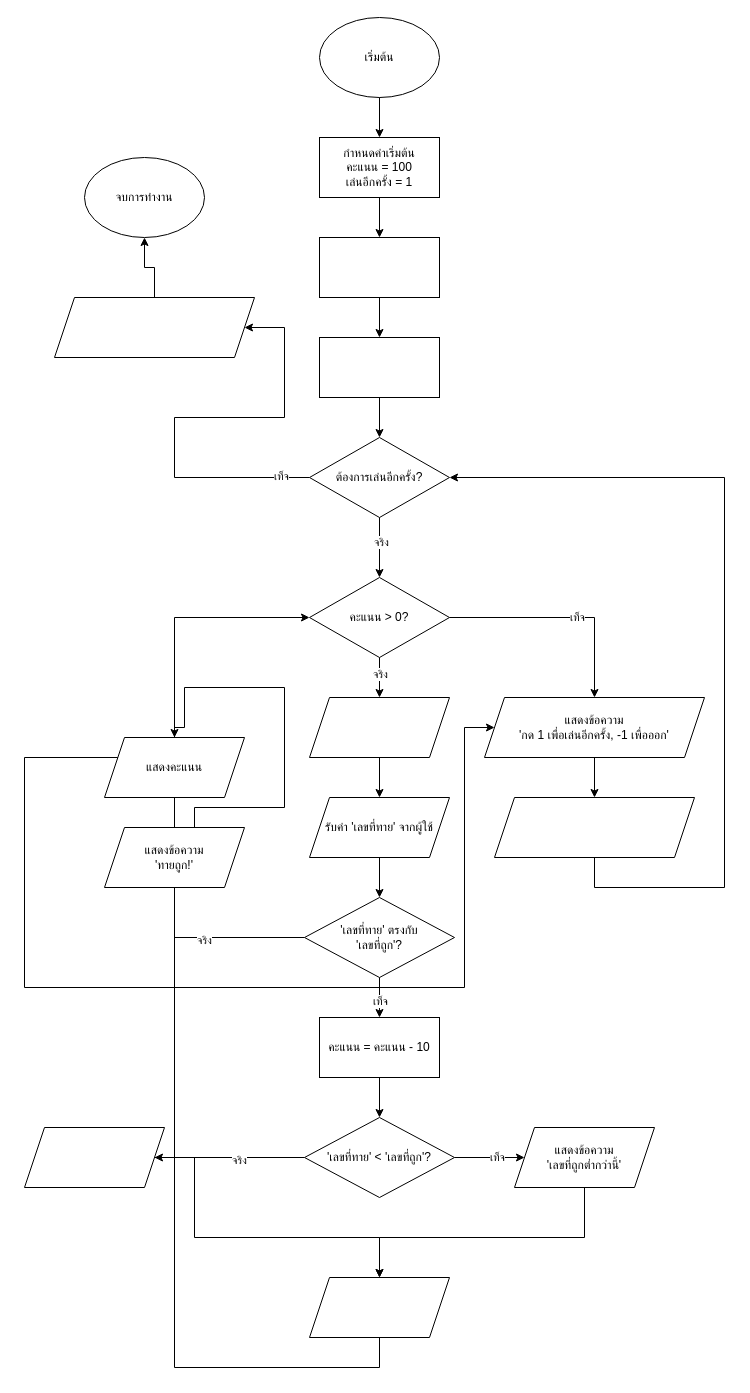
The diagram is 750 pixels wide and 1393 high, and some of its shapes have lost their labels. The shapes that lost their labels are listed below. From the top down, each one's centre as x and y in pixels, then its label:
At point (379, 267): "สุ่มตัวเลข 1-100 เก็บไว้ใน 'เลขที่ถูก'".
At point (154, 327): "แสดงข้อความ 'แล้วพบกันใหม่'".
At point (379, 367): "ตั้งค่า Seed สำหรับการสุ่ม".
At point (379, 727): "แสดงข้อความ 'ให้ทายตัวเลข (1-100):'".
At point (594, 827): "รับค่า 'เล่นอีกครั้ง' จากผู้ใช้".
At point (94, 1157): "แสดงข้อความ 'เลขที่ถูกสูงกว่านี้'".
At point (379, 1307): "แสดงคะแนนปัจจุบัน".
